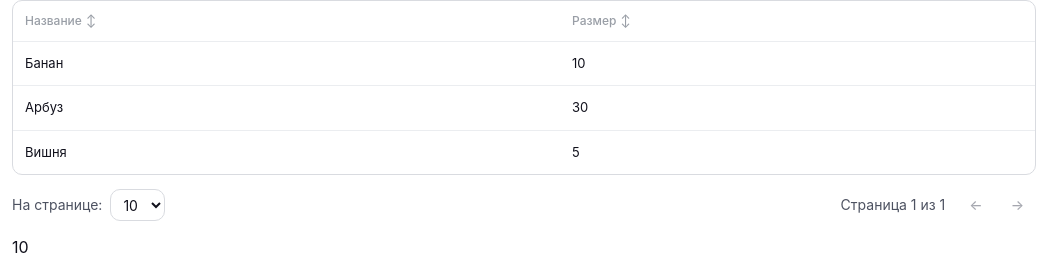
Scenario: <DataTablePagination> › page-size select обновляет pageSize
Select "25" in the dropdown at (138, 205), box [110,189,165,221]
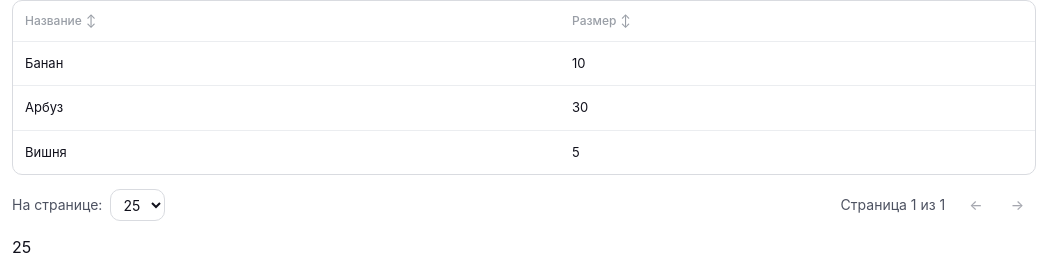
Result: the text with test id "size" reads "25" at [12,237,31,257]
